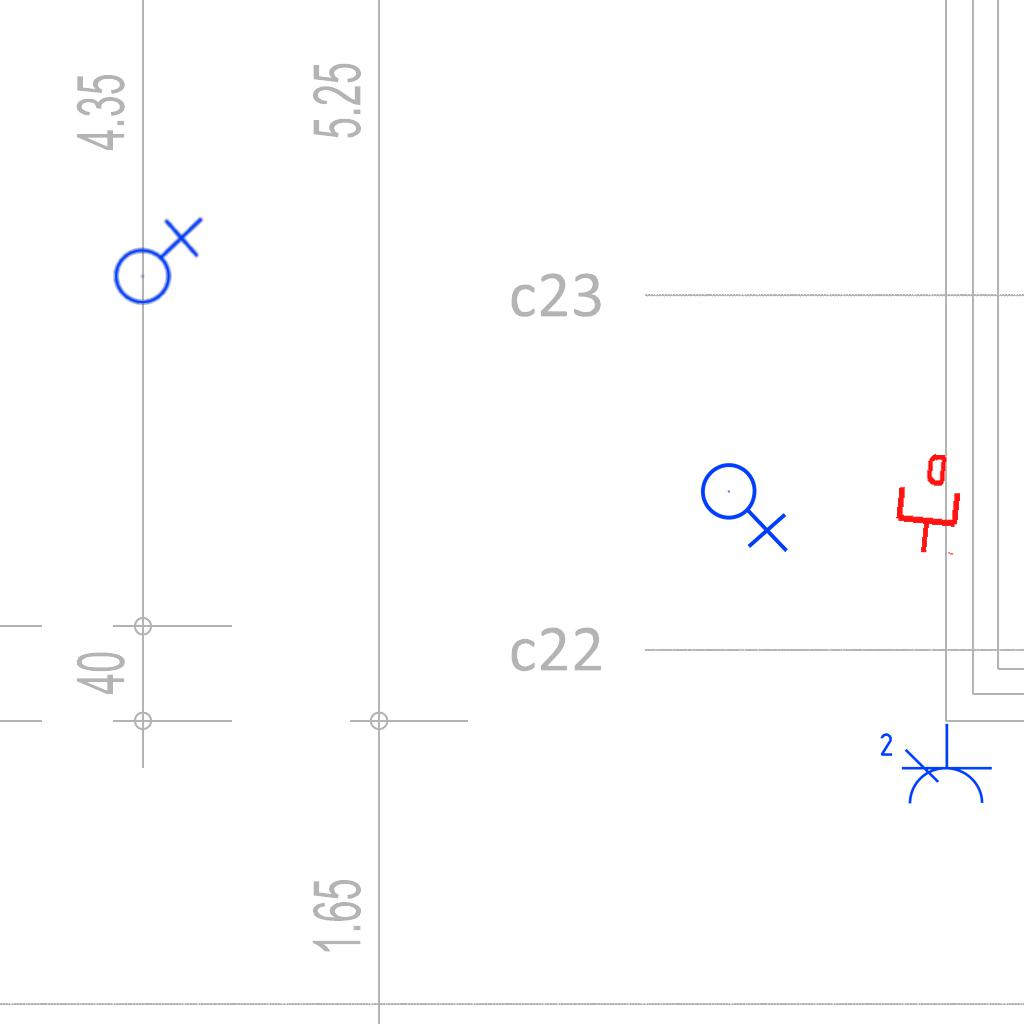Datenanschluss_einfach: (888, 450, 969, 558)
Elektroanschluss_allgemein_230V_Geraeteanschlussdose_230V: (699, 454, 793, 553), (105, 212, 204, 306)
Schukosteckdose_mehrfach: (873, 722, 994, 810)
